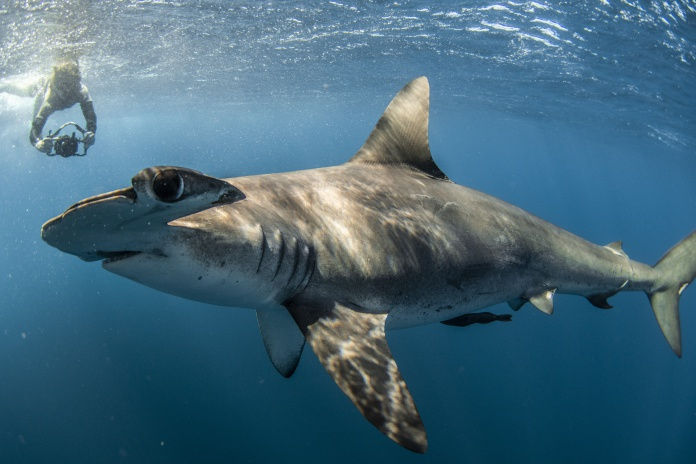Hammer: (23, 72, 696, 455), (23, 158, 440, 322)
